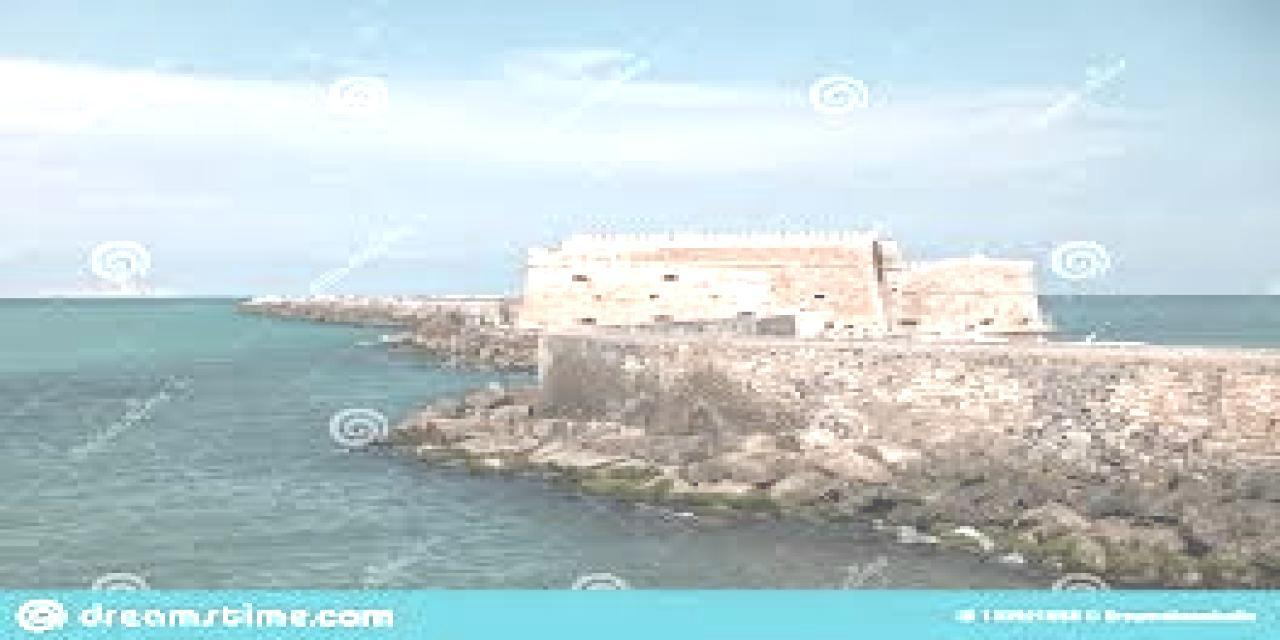Kules: (519, 234, 1068, 344)
